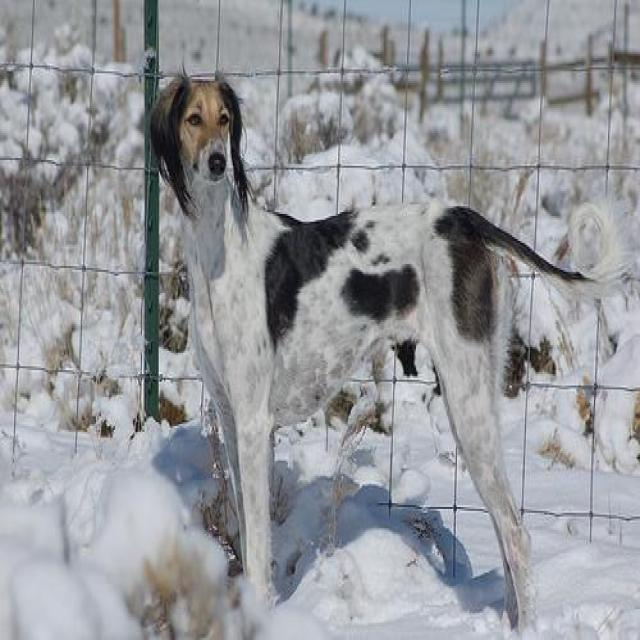saluki: (146, 66, 637, 638)
